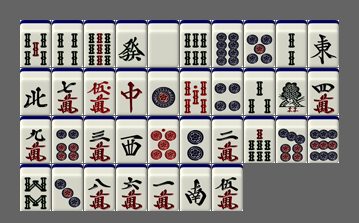0m: (84, 68, 115, 115)
0p: (148, 116, 179, 163)
0s: (180, 68, 211, 115)
1m: (148, 164, 179, 211)
1p: (148, 68, 179, 115)
1s: (276, 68, 307, 115)
1z: (308, 20, 339, 67)
2m: (212, 116, 243, 163)
2p: (180, 116, 211, 163)
2s: (276, 20, 307, 67)
2z: (180, 164, 211, 211)
3m: (84, 116, 115, 163)
3p: (52, 164, 83, 211)
3s: (244, 68, 275, 115)
3z: (116, 116, 147, 163)
4m: (308, 68, 339, 115)
4p: (212, 68, 243, 115)
4s: (52, 20, 83, 67)
4z: (20, 68, 51, 115)
5m: (212, 164, 243, 211)
5p: (244, 20, 275, 67)
5s: (20, 20, 51, 67)
5z: (148, 20, 179, 67)
6m: (116, 164, 147, 211)
6p: (52, 116, 83, 163)
6s: (180, 20, 211, 67)
6z: (116, 20, 147, 67)
7m: (52, 68, 83, 115)
7p: (276, 116, 307, 163)
7s: (244, 116, 275, 163)
7z: (116, 68, 147, 115)
8m: (84, 164, 115, 211)
8p: (212, 20, 243, 67)
8s: (20, 164, 51, 211)
9m: (20, 116, 51, 163)
9p: (308, 116, 339, 163)
9s: (84, 20, 115, 67)
